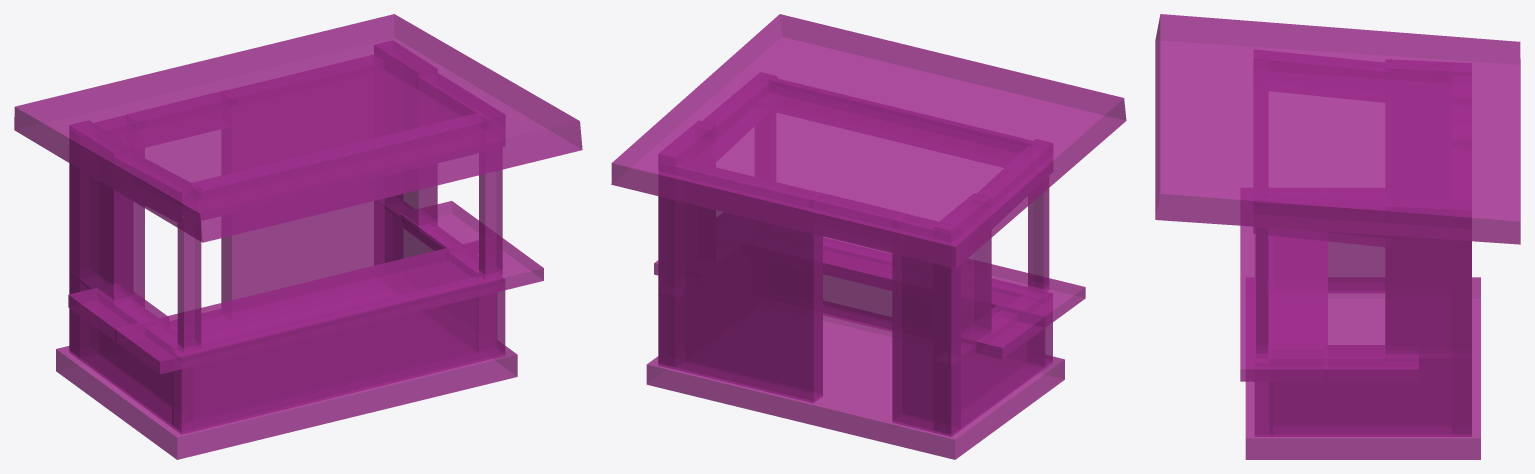
File: SM_Bld_Beach_Shop_02_Collision.fbx
The picture shows the model from 3 angles, left to right: view 1: azimuth 30°, elevation 25°; view 2: azimuth 150°, elevation 25°; view 3: azimuth 270°, elevation 25°; orthographic projection. The views are drawn at different scales.
Parts seen in each view (by area): view 1: SM_Bld_Beach_Shop_02_Collision; view 2: SM_Bld_Beach_Shop_02_Collision; view 3: SM_Bld_Beach_Shop_02_Collision.
Part boxes in pixels (x1,y1,x2,y2): SM_Bld_Beach_Shop_02_Collision: [14, 14, 582, 459]; SM_Bld_Beach_Shop_02_Collision: [611, 14, 1126, 459]; SM_Bld_Beach_Shop_02_Collision: [1155, 14, 1520, 459].
Bounding box in the file's own units: 449 × 316 × 380.
